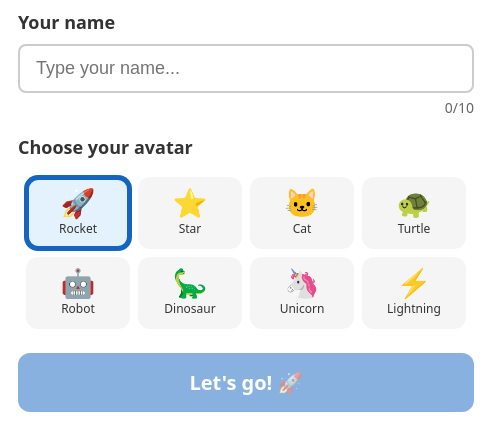
it: NewPlayerForm › truncates pasted text to 10 characters
The image size is (493, 429).
Click the field labelled "Your name": (246, 68) [18,44,474,93]
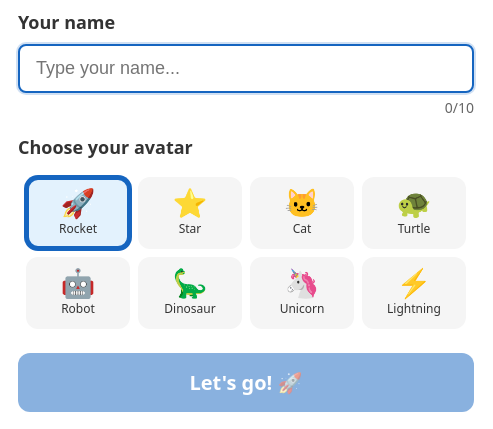
Type keys "ABCDEFGHIJKLMNOPQRSTUVWXY"
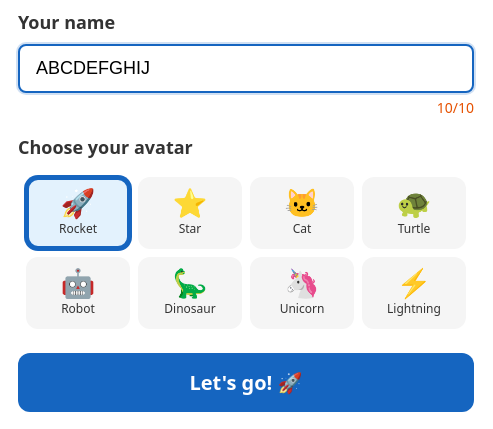
Expected: the field labelled "Your name" holds "ABCDEFGHIJ", [18,44,474,93]
